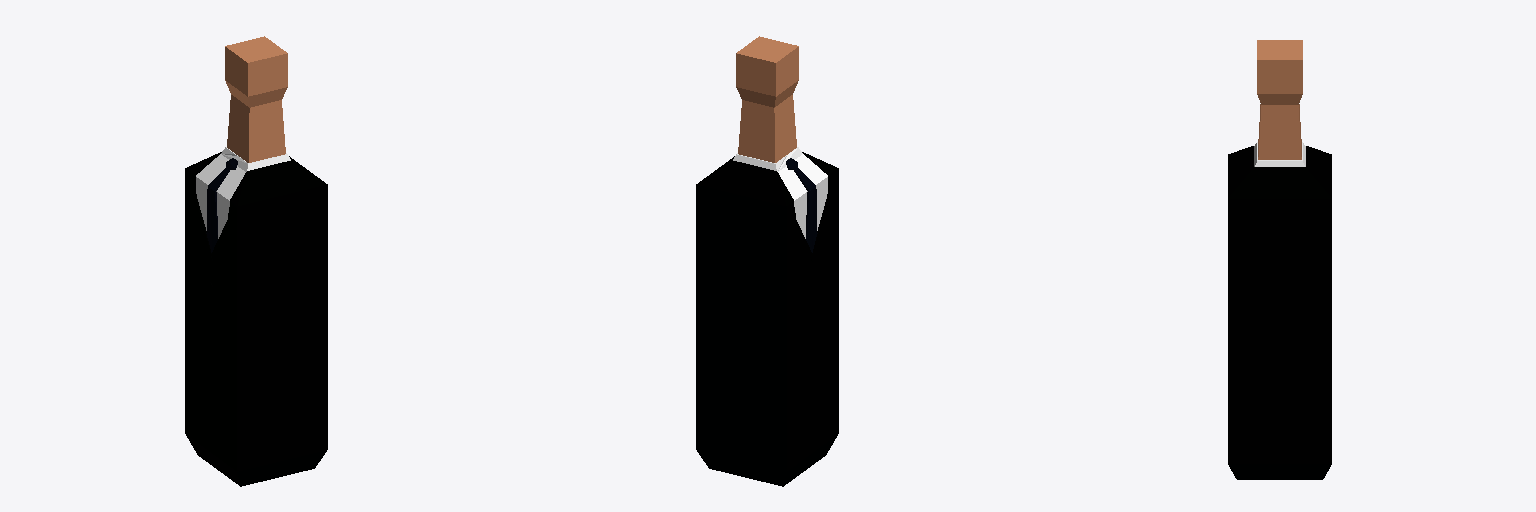
The model's file is bottleSuit.obj.
The picture shows the model from 3 angles: view 1: azimuth 30°, elevation 25°; view 2: azimuth 150°, elevation 25°; view 3: azimuth 270°, elevation 25°; orthographic projection.
Parts seen in each view (by area): view 1: bottleOil; view 2: bottleOil; view 3: bottleOil.
Part boxes in pixels (x1,y1,x2,y2): bottleOil: (185, 36, 327, 486); bottleOil: (696, 36, 838, 486); bottleOil: (1228, 40, 1331, 479).
Bounding box in the file's own units: 0.5413 × 2.34 × 0.5363.